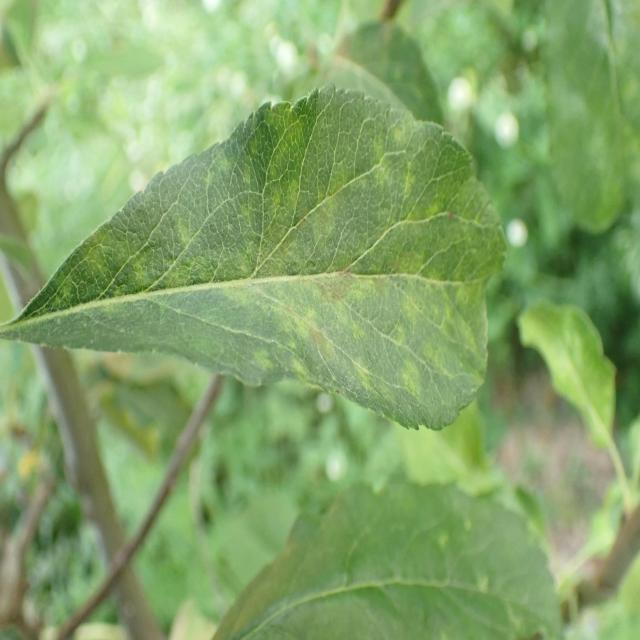scab: (55, 99, 505, 419)
